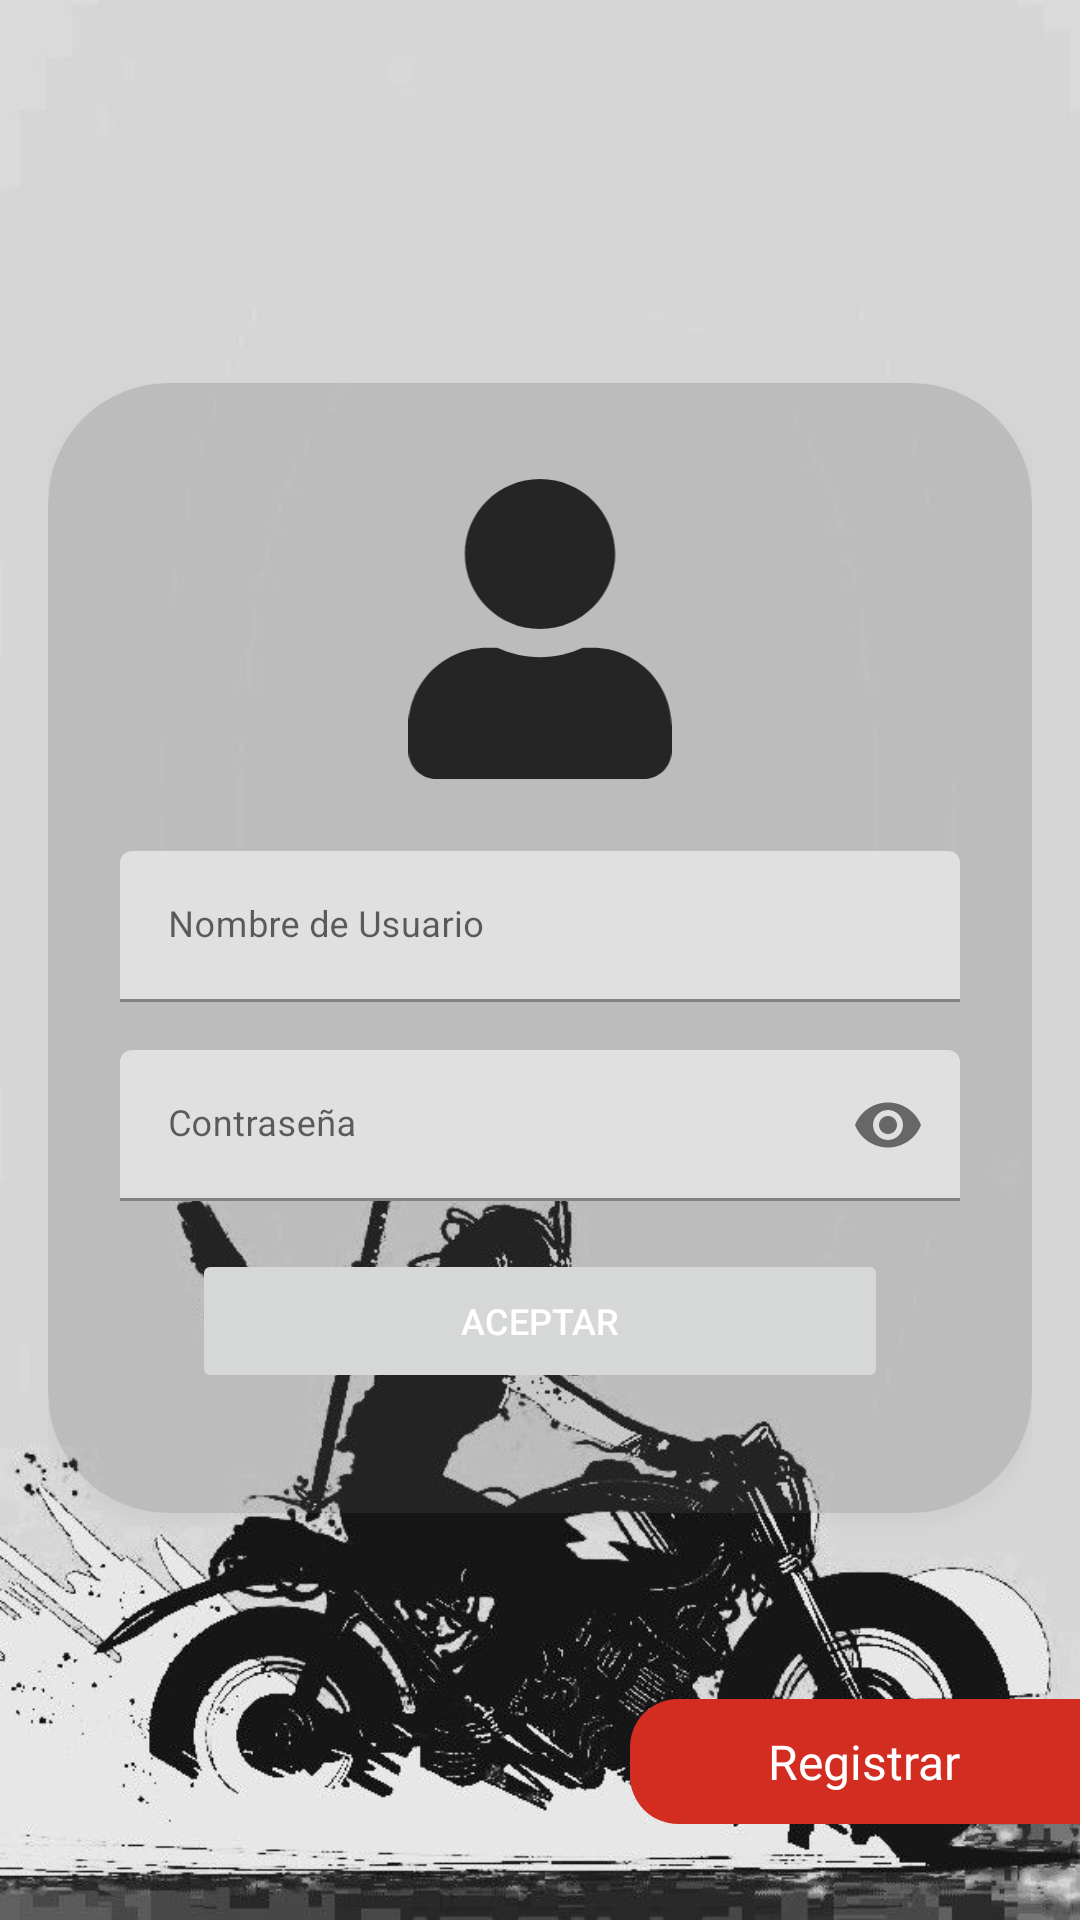

Where to tap for icons on this 1080x1920 app screen, as (x=x, y=y):
user: (x=540, y=629)
